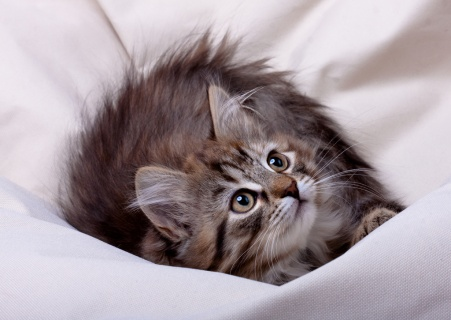Cat: (55, 14, 410, 289)
